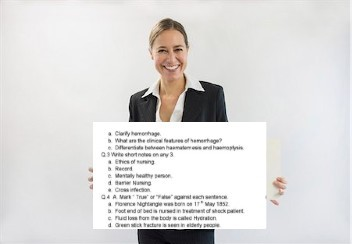questionPaper: (95, 122, 266, 230)
